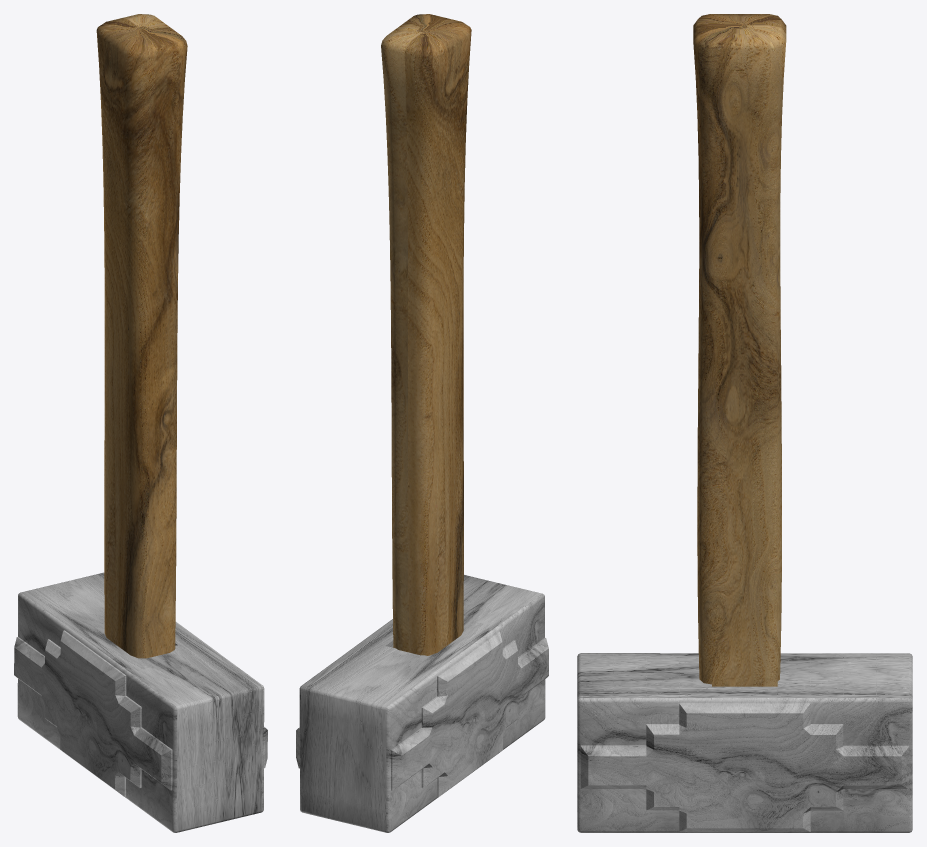
File: martillo.obj
3 views of the same model, side by side, from view 1: azimuth 30°, elevation 25°; view 2: azimuth 150°, elevation 25°; view 3: azimuth 270°, elevation 25° (orthographic). The views are drawn at different scales.
Visible parts, largest first — view 1: ChamferBox002, ChamferBox001; view 2: ChamferBox002, ChamferBox001; view 3: ChamferBox001, ChamferBox002.
Boxes of the visible parts, <box> form: ChamferBox002: <box>96,14,187,658</box>; ChamferBox001: <box>14,572,267,832</box>; ChamferBox002: <box>381,14,471,655</box>; ChamferBox001: <box>296,575,548,832</box>; ChamferBox001: <box>577,653,912,832</box>; ChamferBox002: <box>693,14,786,686</box>.
Size of the model in its own units: 12.34 by 81.76 by 31.61.
Materials: 2 (2 with a texture image).
